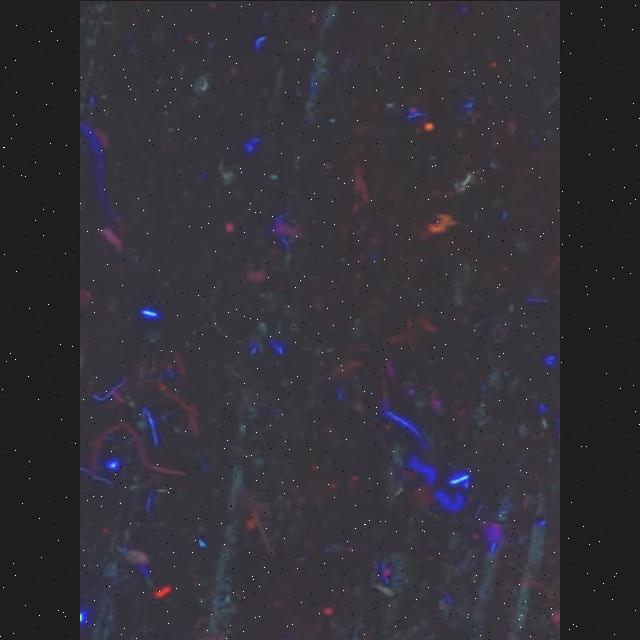Fragment: (428, 214, 459, 233)
